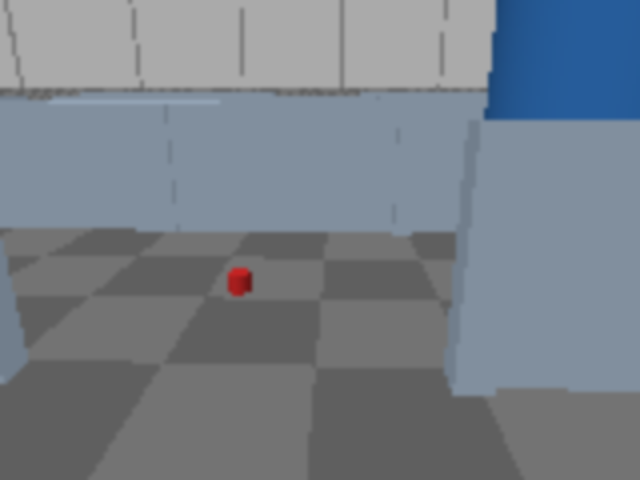puck: (229, 268, 252, 295)
